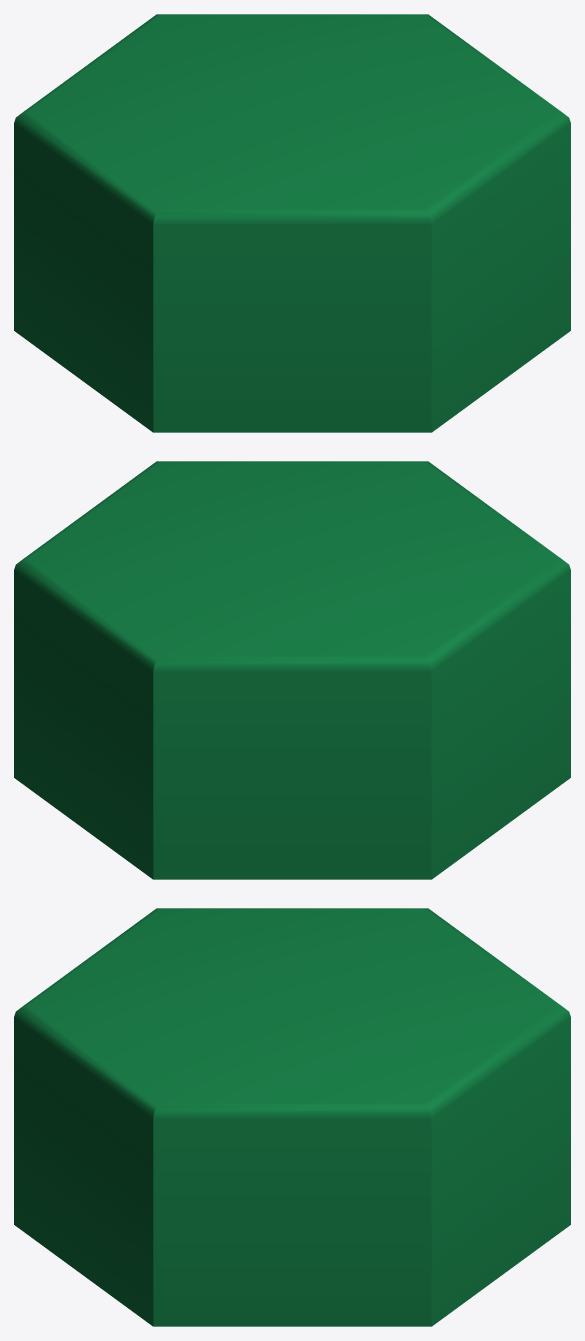
Rendered from anim.fbx.
The picture shows the model from 3 angles, top to bottom: view 1: azimuth 30°, elevation 25°; view 2: azimuth 150°, elevation 25°; view 3: azimuth 270°, elevation 25°; orthographic projection.
Visible parts, largest first — view 1: Grass_tile; view 2: Grass_tile; view 3: Grass_tile.
Boxes of the visible parts, left/top/right/bottom form: Grass_tile: left=14, top=14, right=570, bottom=432; Grass_tile: left=14, top=461, right=570, bottom=879; Grass_tile: left=14, top=908, right=570, bottom=1326.
Bounding box in the file's own units: 1000 × 1155 × 500.
